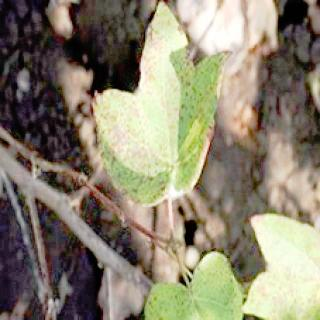leaf spot: (90, 2, 232, 198), (143, 259, 232, 320), (244, 261, 317, 315)
